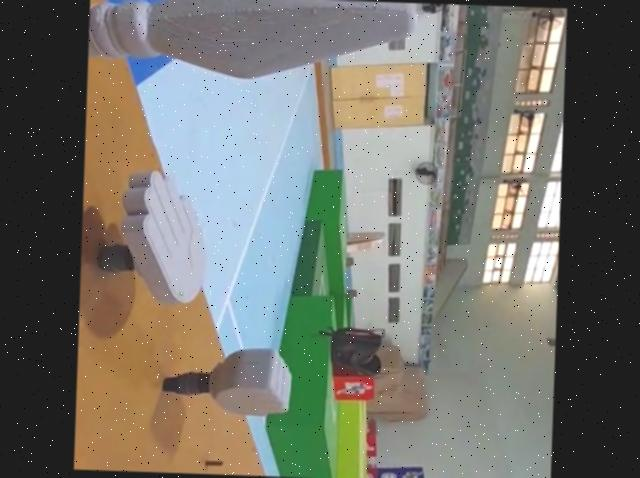Fist: (156, 345, 292, 420)
Hand: (88, 170, 212, 306)
Sph: (86, 0, 430, 84)
